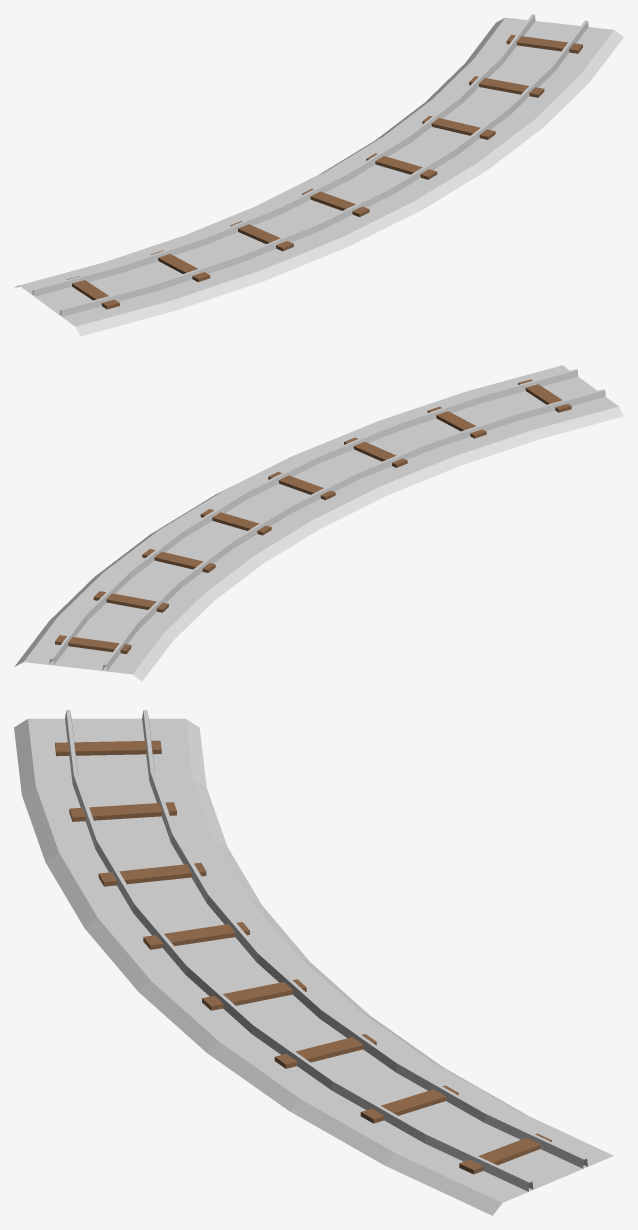
The model's file is 1_curve_large_half.fbx.
3 renders of one model, top to bottom at view 1: azimuth 30°, elevation 25°; view 2: azimuth 210°, elevation 25°; view 3: azimuth 270°, elevation 25°, orthographic. The views are drawn at different scales.
Visible parts, largest first — view 1: 1_curve_large_half; view 2: 1_curve_large_half; view 3: 1_curve_large_half.
Part boxes in pixels (<box>): 1_curve_large_half: <box>15,14,623,336</box>; 1_curve_large_half: <box>14,365,623,681</box>; 1_curve_large_half: <box>14,710,613,1215</box>.
Bounding box in the file's own units: 11.99 × 0.2 × 6.33.
